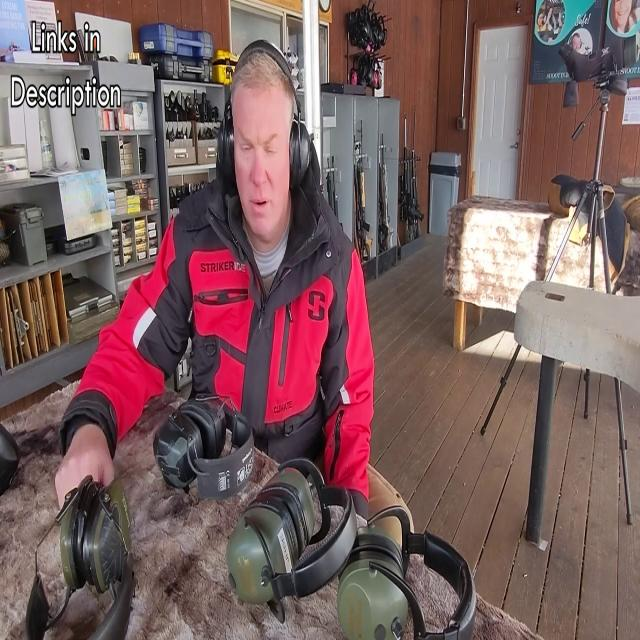earmuff: (212, 107, 242, 199), (288, 111, 318, 199)
